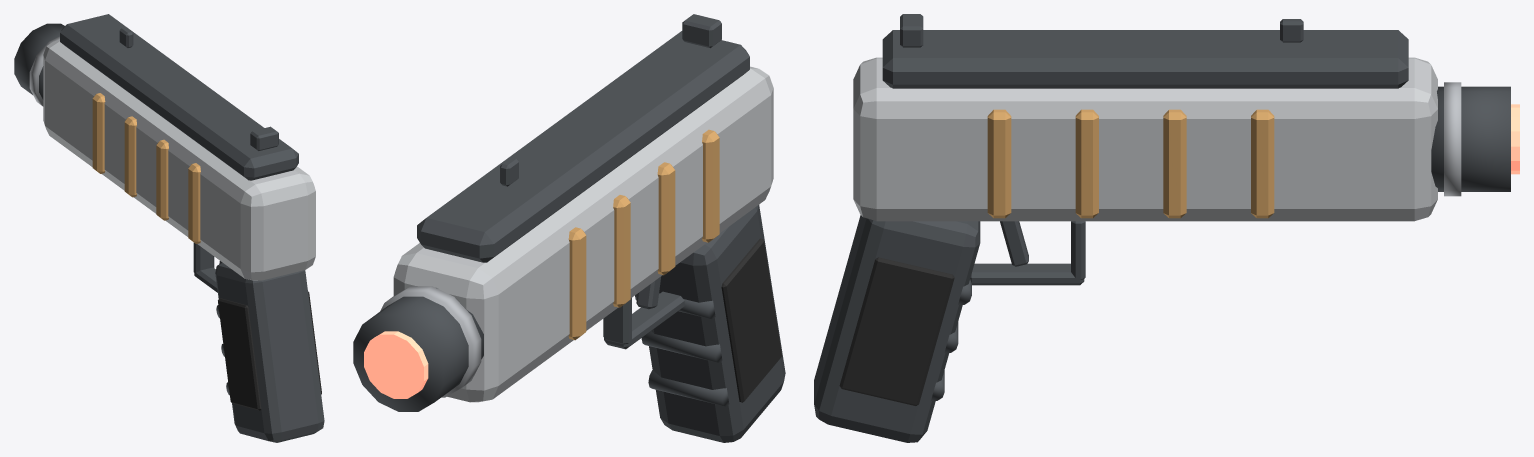
Rendered from laser_pistol.glb.
The picture shows the model from 3 angles, left to right: view 1: azimuth 30°, elevation 25°; view 2: azimuth 150°, elevation 25°; view 3: azimuth 270°, elevation 25°; orthographic projection. The views are drawn at different scales.
Parts seen in each view (by area): view 1: Laser_pistol; view 2: Laser_pistol; view 3: Laser_pistol.
Part boxes in pixels (x1=…): Laser_pistol: x1=14, y1=14, x2=324, y2=442; Laser_pistol: x1=353, y1=14, x2=785, y2=442; Laser_pistol: x1=814, y1=14, x2=1519, y2=442.
Bounding box in the file's own units: 0.046 × 0.1546 × 0.2414.
